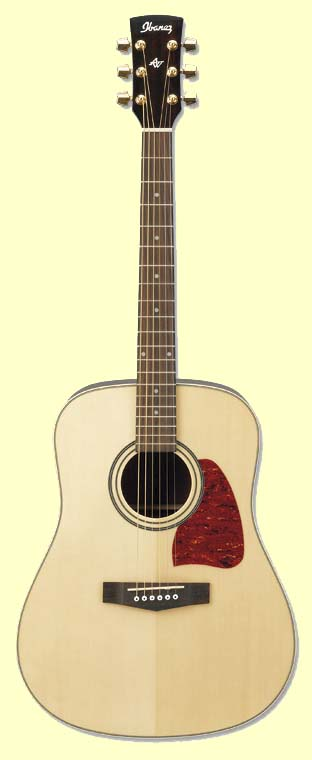guitar: (13, 11, 302, 740)
